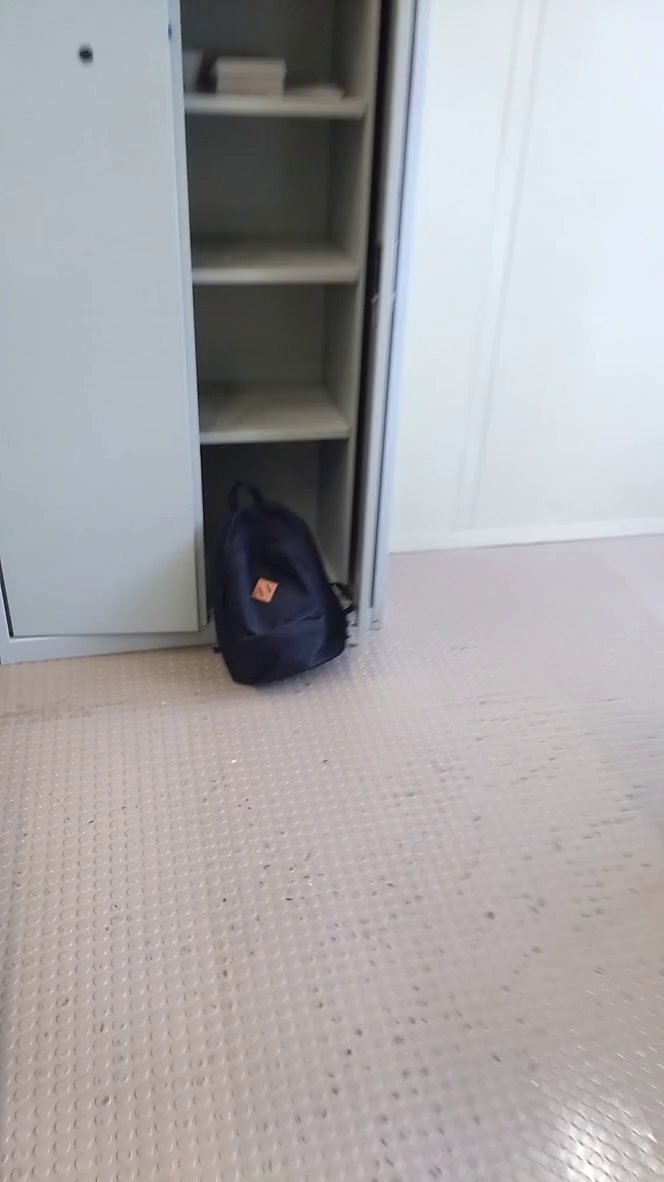bag: (201, 474, 362, 689)
